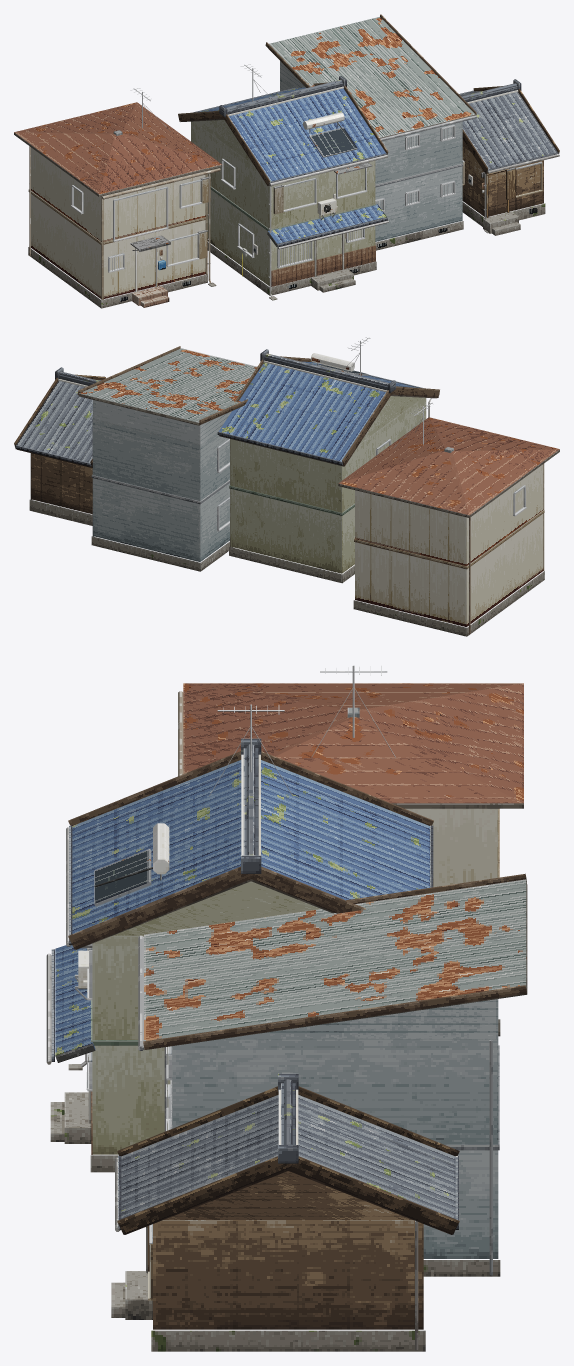
The model's file is lane_ne.glb.
3 renders of one model, top to bottom at view 1: azimuth 30°, elevation 25°; view 2: azimuth 150°, elevation 25°; view 3: azimuth 270°, elevation 25°, orthographic. The views are drawn at different scales.
Visible parts, largest first — view 1: lane_ne; view 2: lane_ne; view 3: lane_ne.
Boxes of the visible parts, <box> form: lane_ne: <box>14,14,559,308</box>; lane_ne: <box>14,337,559,636</box>; lane_ne: <box>46,665,527,1351</box>.
Bounding box in the file's own units: 22.08 × 9.13 × 10.3.
1 material, 1 textured.
